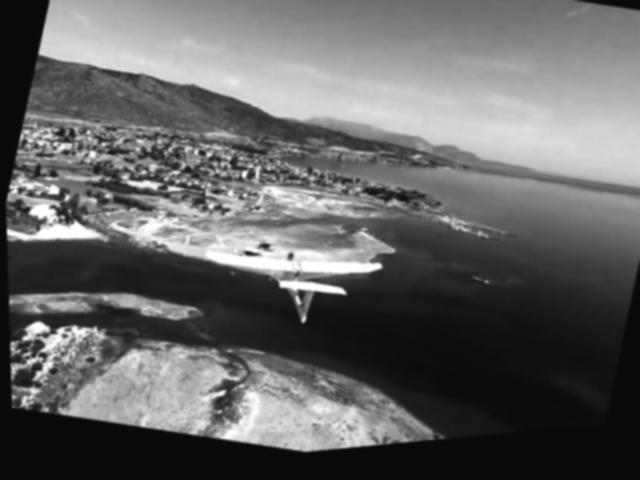hedef: (184, 222, 401, 358)
